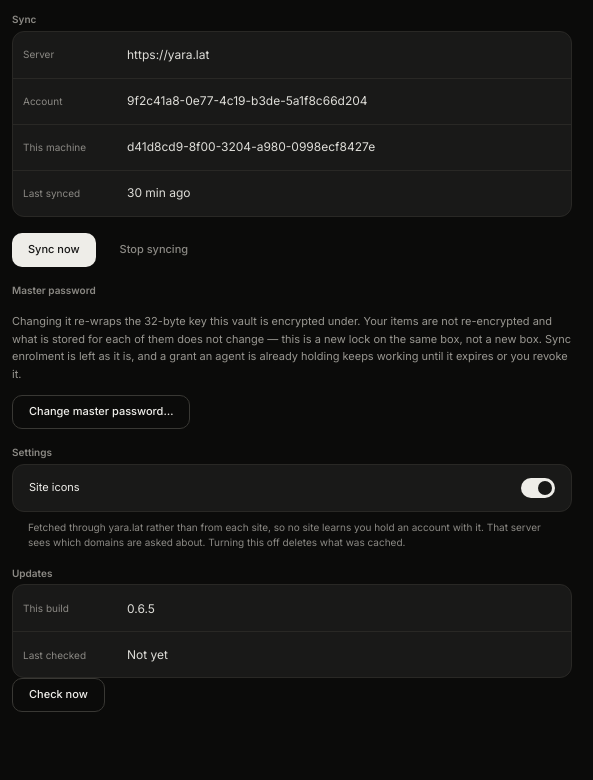
changing the master password › sends both passwords once the two new ones agree
Click the button "Change master password…".
click(101, 412)  # box [12, 395, 190, 429]
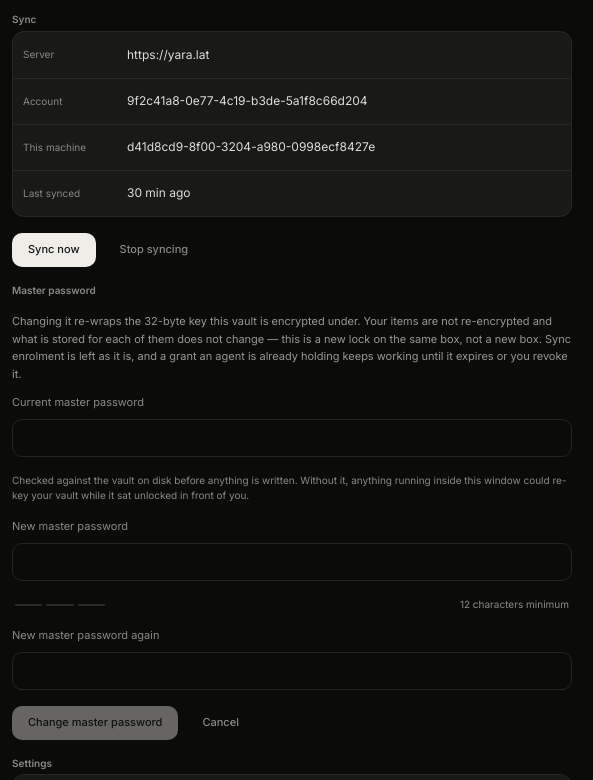
Type "the one that opens it" into the password field labelled "Current master password".
click(292, 438); type("the one that opens it")  # box [12, 419, 572, 457]
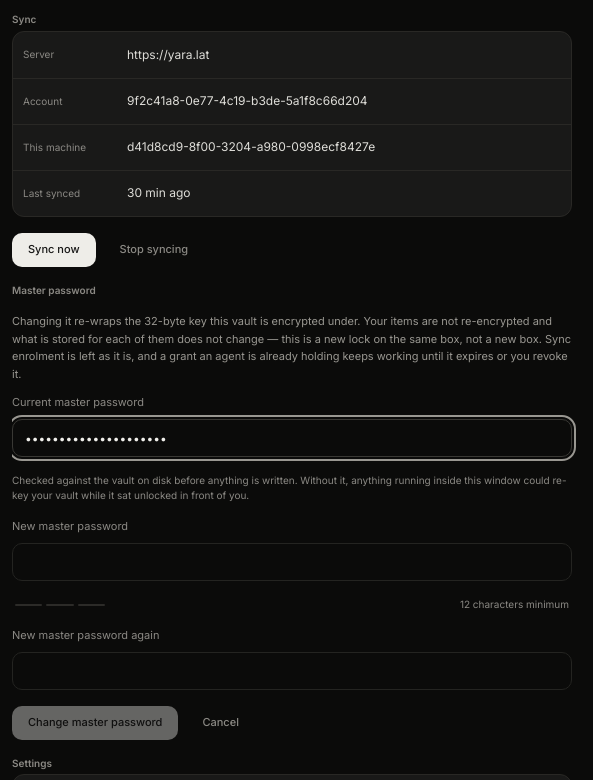
Type "correct horse battery 7!" into the password field labelled "New master password".
click(292, 562); type("correct horse battery 7!")  # box [12, 543, 572, 581]
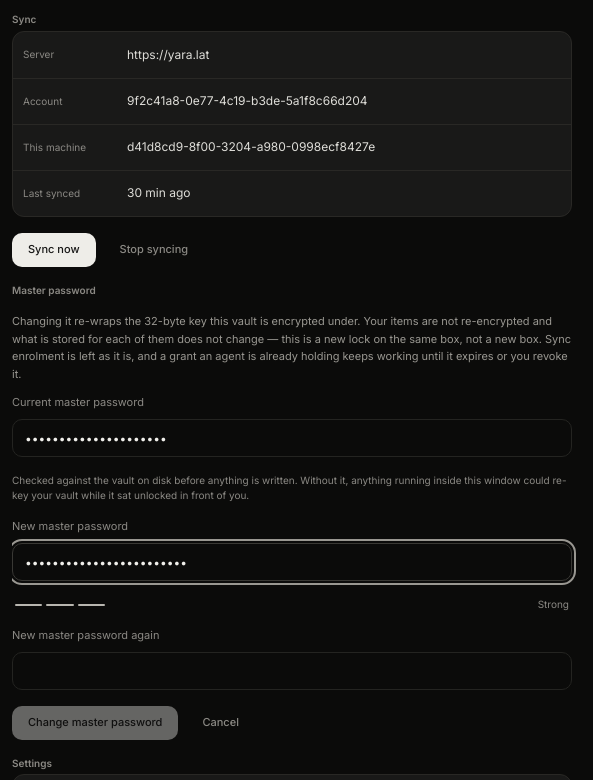
Type "correct horse battery 7!" into the password field labelled "New master password again".
click(292, 671); type("correct horse battery 7!")  # box [12, 652, 572, 690]
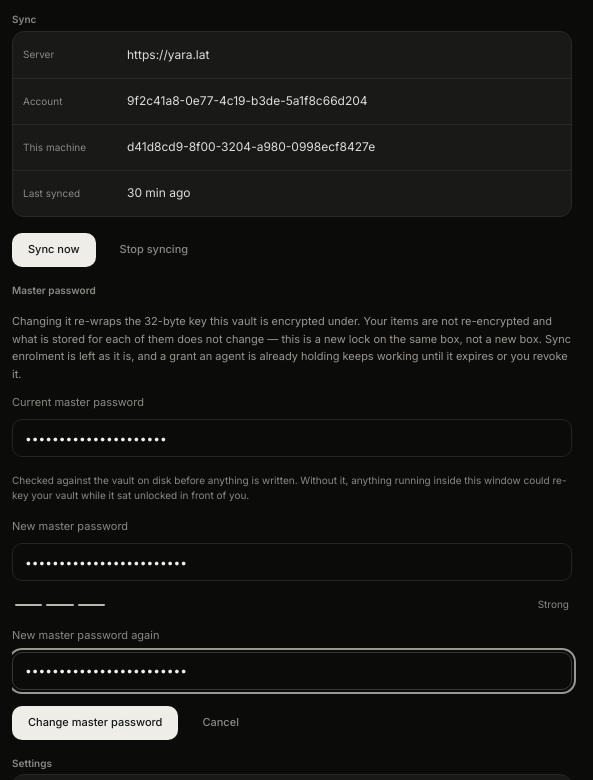
Click the button "Change master password".
click(95, 723)  # box [12, 706, 178, 740]
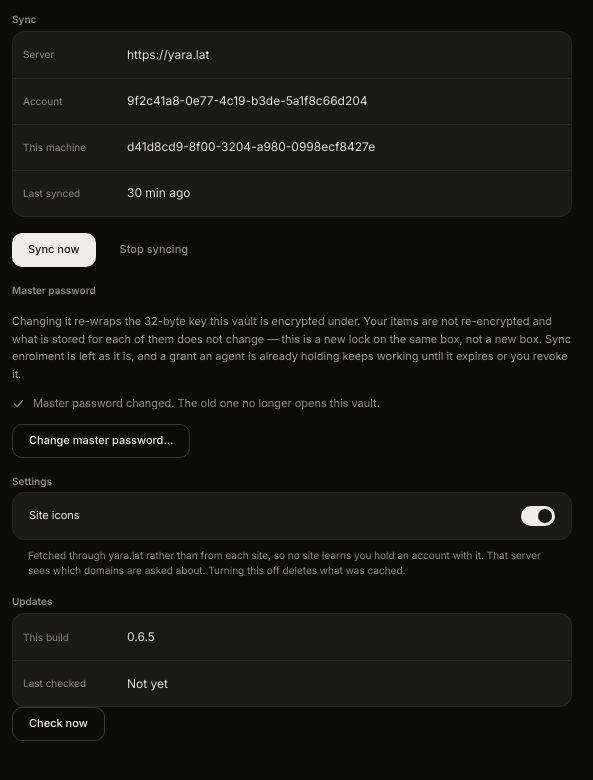
Check: the message shows "Master password changed", box [33, 396, 380, 410]
Check: the label labelled "Current master password" is gone
